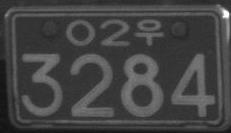0: (66, 19, 96, 47)
2: (70, 52, 115, 117), (100, 18, 131, 47)
3: (21, 52, 63, 117)
4: (170, 53, 216, 117)
8: (119, 52, 164, 118)
우: (135, 18, 164, 46)
